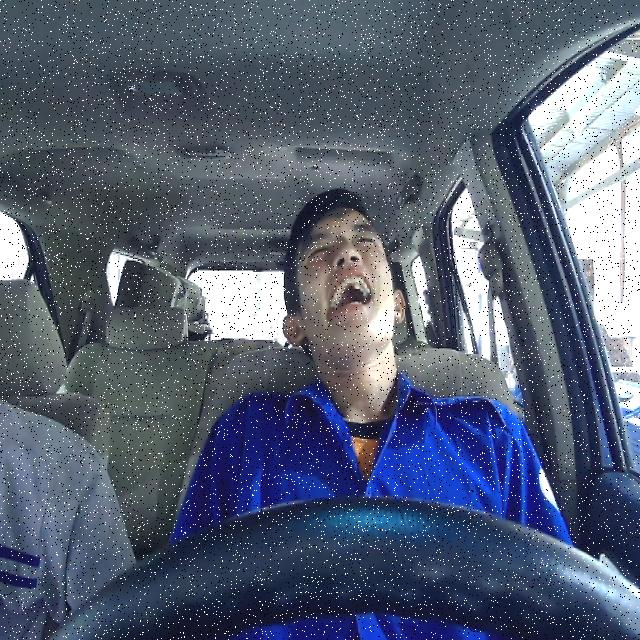yarning: (282, 202, 404, 370)
